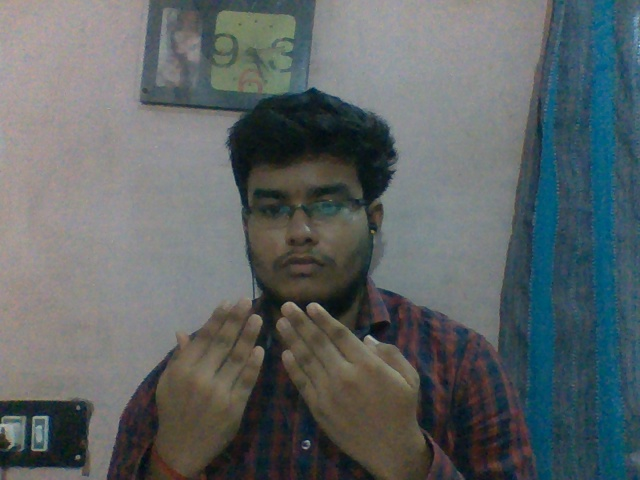ThankYou: (154, 297, 421, 467)
